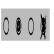correct: (16, 17, 22, 35)
not correct: (40, 12, 47, 40)
